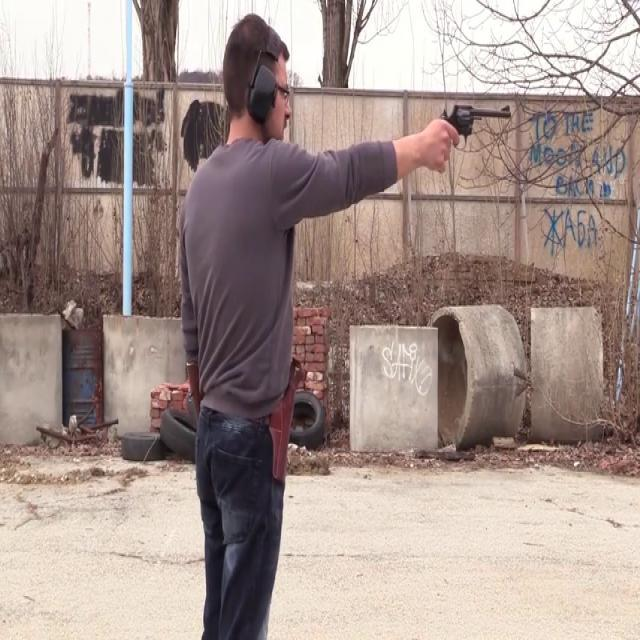gun-knife-thesis - v11 Yolov5 augmented: (416, 89, 512, 172)
